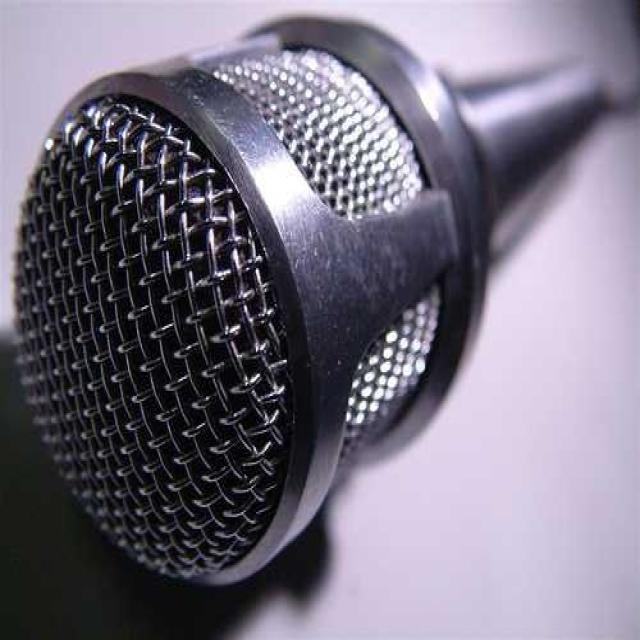microphone: (15, 21, 612, 579)
